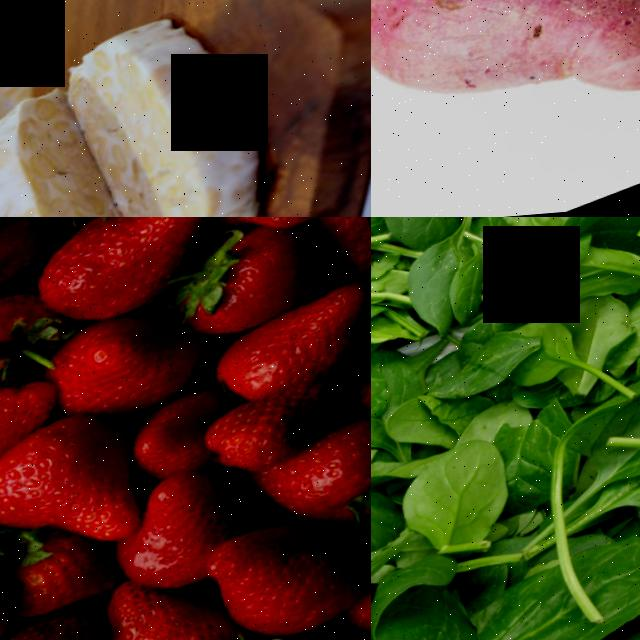spinach: (392, 440, 524, 567), (515, 218, 640, 330), (405, 240, 494, 339), (371, 577, 492, 640), (373, 217, 471, 259), (493, 217, 607, 243)
strawberry: (29, 217, 221, 341), (206, 503, 371, 640), (44, 300, 207, 432), (0, 423, 145, 560), (211, 290, 371, 413), (269, 415, 371, 548), (139, 458, 254, 569), (0, 283, 62, 409), (107, 586, 241, 640), (193, 217, 351, 257), (0, 600, 113, 640)
sweet potato: (371, 0, 640, 197)
tempeh: (49, 0, 288, 217), (0, 75, 161, 217), (0, 36, 41, 162)
